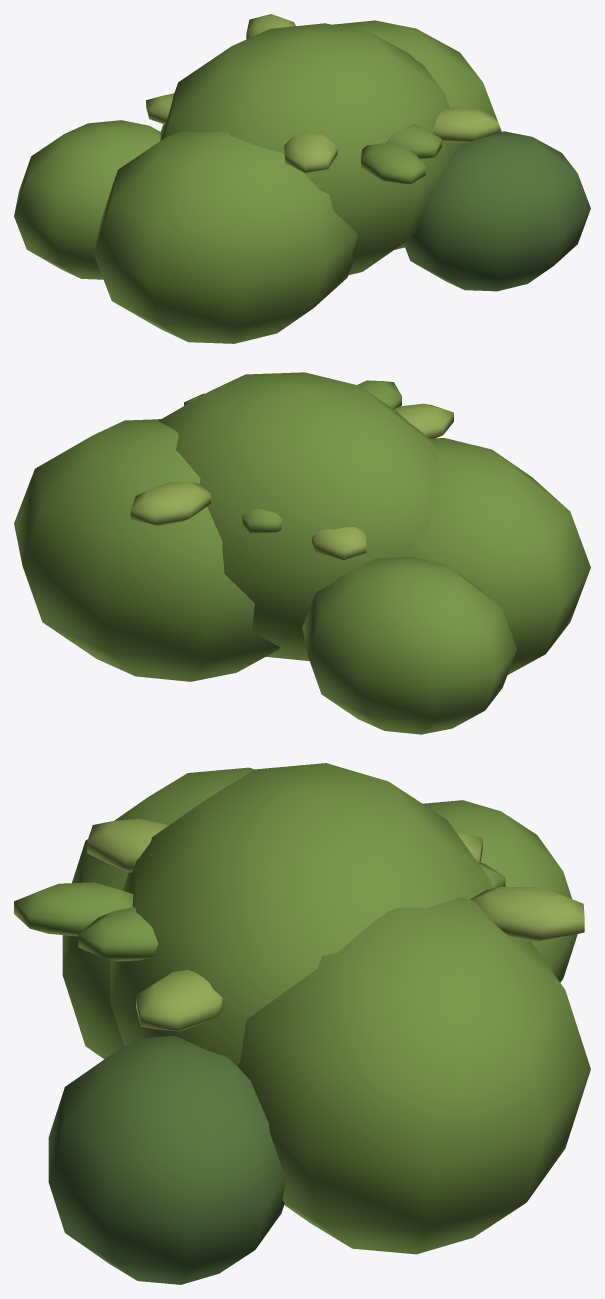
Rendered from Yard_Leaf_Cluster.fbx.
3 views of the same model, one above another, from view 1: azimuth 30°, elevation 25°; view 2: azimuth 150°, elevation 25°; view 3: azimuth 270°, elevation 25° (orthographic). The views are drawn at different scales.
Parts seen in each view (by area): view 1: Body; view 2: Body; view 3: Body.
Boxes of the visible parts, bbox=[...] form: Body: bbox=[14, 14, 590, 343]; Body: bbox=[14, 372, 590, 734]; Body: bbox=[14, 763, 590, 1284].
Bounding box in the file's own units: 1.41 × 0.7232 × 1.
